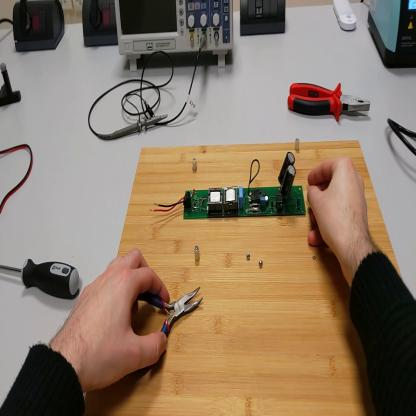hand: (66, 248, 173, 393), (306, 156, 371, 263)
high voltage board: (151, 151, 308, 221)
oscilloscope: (115, 2, 235, 73)
oscilloscope probe tip: (114, 114, 169, 141)
pliers: (287, 78, 372, 123), (139, 283, 204, 331)
screwdriver-: (2, 255, 82, 302)
socket: (12, 1, 66, 57), (83, 1, 119, 51)
welder station: (370, 1, 416, 69)
working area: (84, 141, 413, 416)
